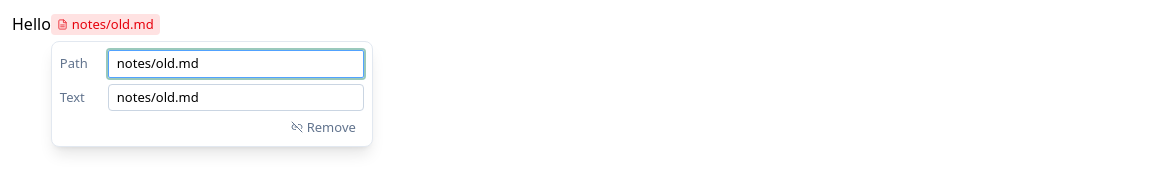
Test case: LinkEditorPopover — wiki-link mode (DOC-4.7-02, 4.7-06, 4.7-10, 4.7-11) › DOC-4.7-11: display text refreshes to new basename when it matched old path default
This screenshot has width=1164, height=173.
Expected: the text "Path" is shown, [60,54,88,72]
Replace the text in the field with placeholder "path/to/note#section" next to "Path" with "notes/new.md". click: (236, 64)
box: [108,50,364,78]
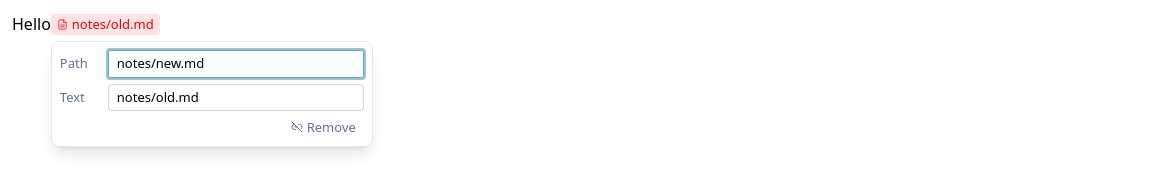
Press Enter in the field with placeholder "path/to/note#section" next to "Path", box [108,50,364,78]
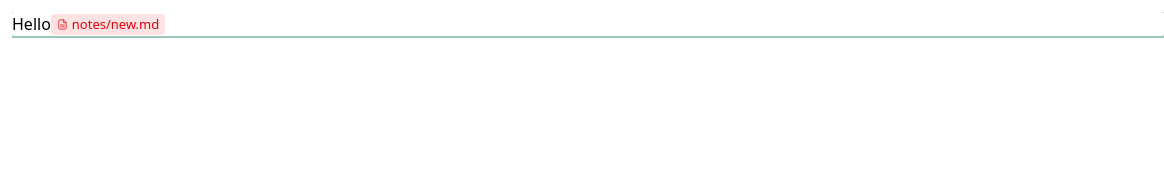
Expected: the text "notes/new.md" is shown, [72,16,159,33]
